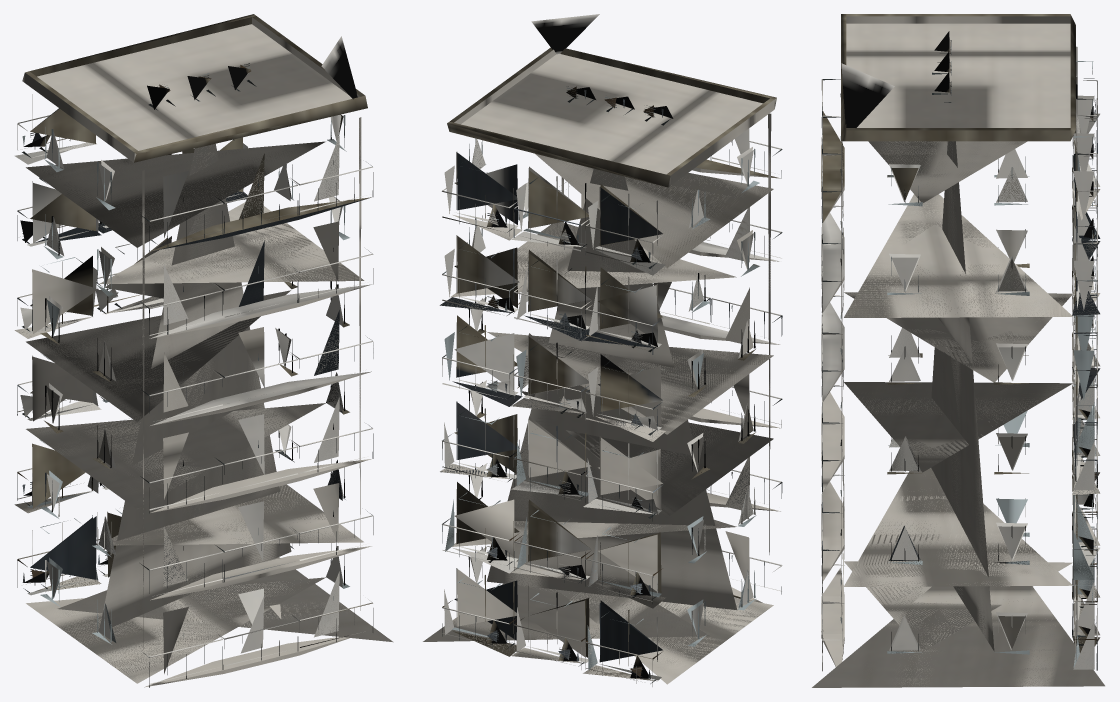
File: residential_017.lod2.obj
3 views of the same model, side by side, from view 1: azimuth 30°, elevation 25°; view 2: azimuth 150°, elevation 25°; view 3: azimuth 270°, elevation 25° (orthographic). The views are drawn at different scales.
Parts seen in each view (by area): view 1: residential_017; view 2: residential_017; view 3: residential_017.
Part boxes in pixels (left/top/right/bottom): residential_017: left=14, top=14, right=393, bottom=687; residential_017: left=423, top=14, right=782, bottom=686; residential_017: left=812, top=14, right=1104, bottom=687.
Size of the model in its own units: 8.8 by 19.66 by 8.8.
Materials: 1 (1 with a texture image).
